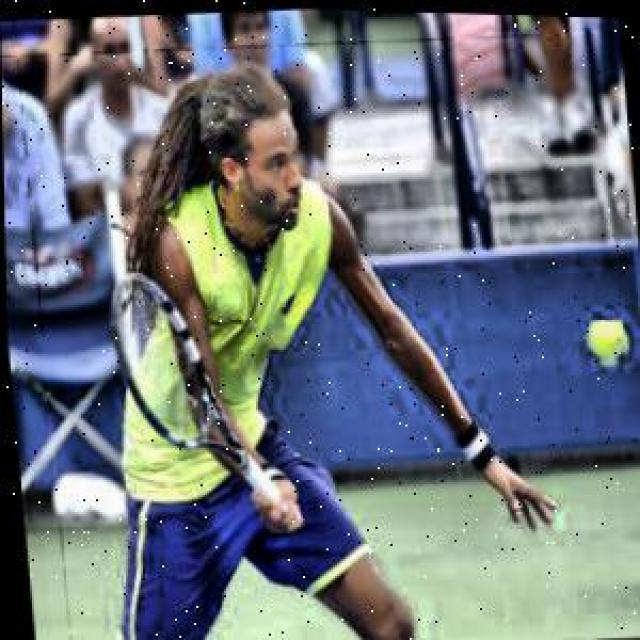tennis-ball: (585, 317, 627, 364)
